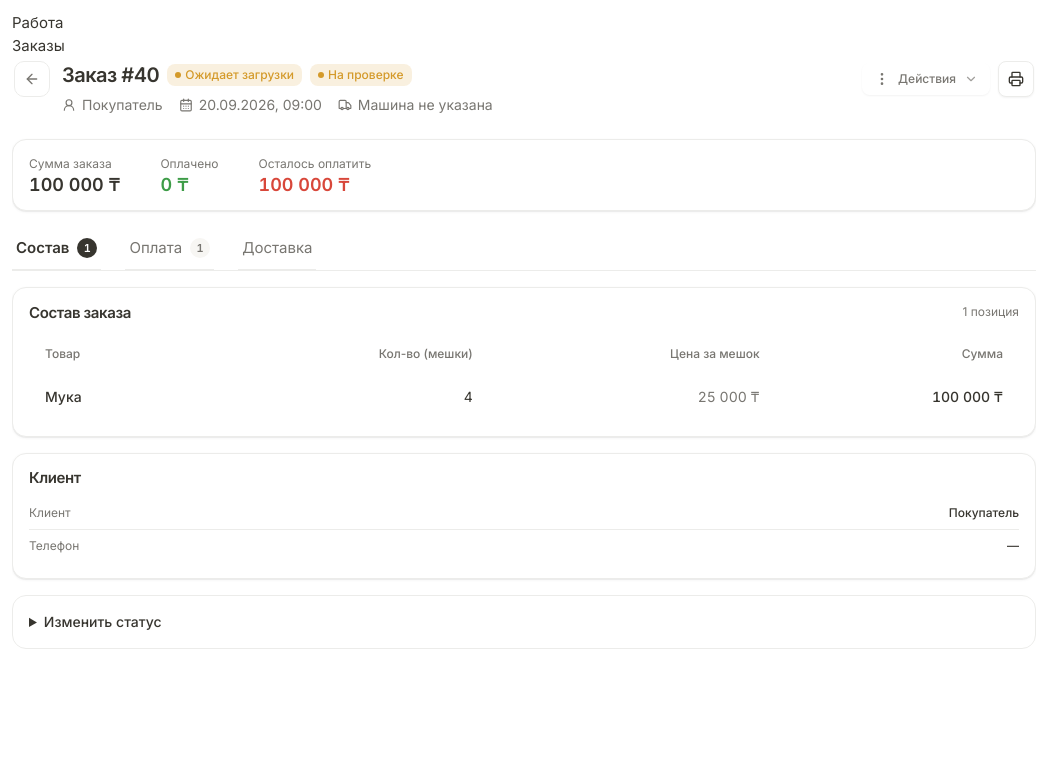
marks a payment under review in the header and the «Оплата» card
The image size is (1048, 780).
Expected: the heading "Заказ #40" is shown, [62,61,159,89]
Click the tab "Оплата 1".
click(170, 249)  # box [125,227,214,271]
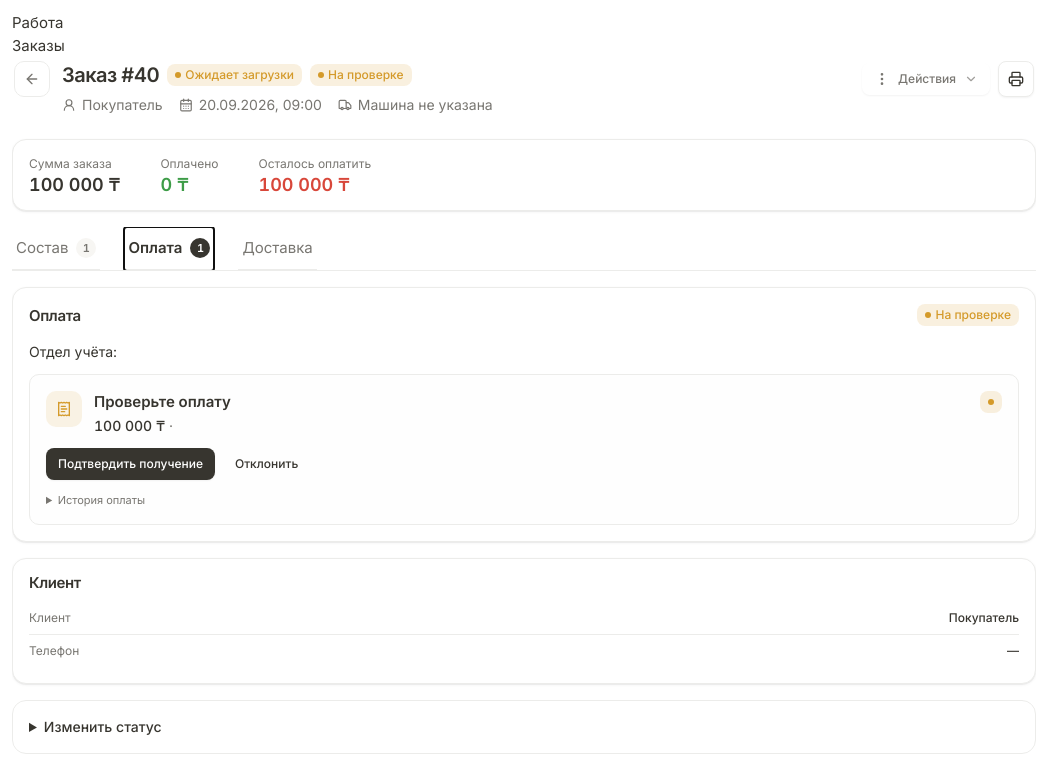
Result: the text "На проверке" is shown 2 times at [310,64,412,86]; [918,304,1019,326]
